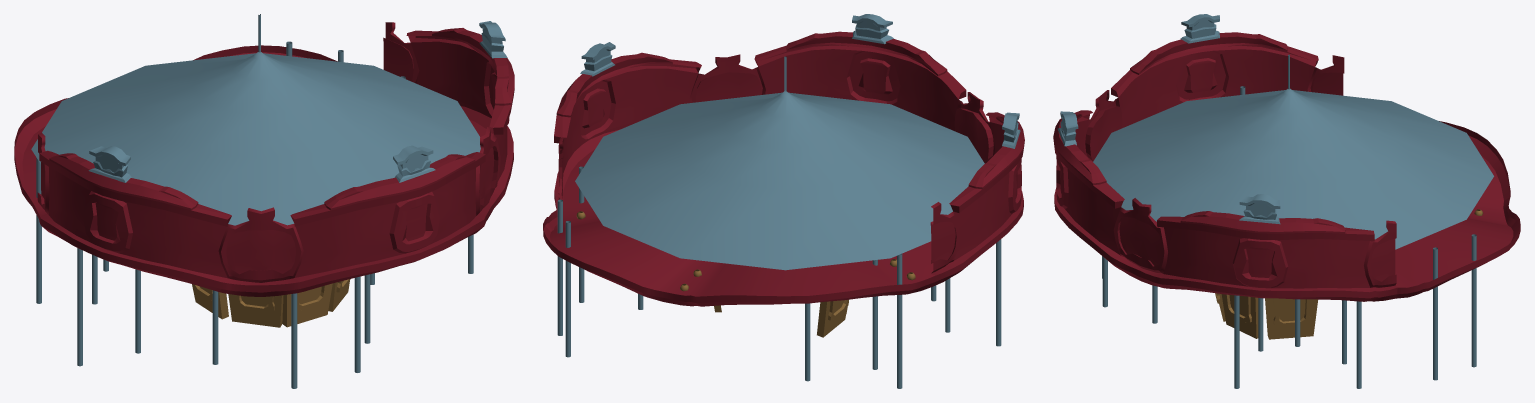
File: Carousel Export.fbx
The picture shows the model from 3 angles, left to right: view 1: azimuth 30°, elevation 25°; view 2: azimuth 150°, elevation 25°; view 3: azimuth 270°, elevation 25°; orthographic projection. The views are drawn at different scales.
Parts seen in each view (by area): view 1: Crown_Ring, Tent, Mirror_Cyl3, Mirror_Cyl, Crown_Topper_L, Crown_Topper_L1, Crown_Topper_L2, Horse_Pole1, Horse_Pole2, Horse_Pole18, Horse_Pole7, Mirror_Cyl4 (+3 smaller); view 2: Tent, Crown_Ring, Crown_Topper_L1, Mirror_Cyl4, Crown_Topper_L2, Horse_Pole2, Horse_Pole13, Horse_Pole15, Horse_Pole1, Crown_Topper_L, Horse_Pole4, Horse_Pole6; view 3: Crown_Ring, Tent, Mirror_Cyl2, Mirror_Cyl1, Crown_Topper_L2, Crown_Topper_L, Horse_Pole13, Horse_Pole15, Horse_Pole17, Crown_Topper_L1, Horse_Pole16.
Part boxes in pixels (x1,y1,x2,y2): Crown_Ring: (14, 22, 514, 296); Tent: (31, 52, 480, 225); Mirror_Cyl3: (228, 294, 283, 327); Mirror_Cyl: (282, 283, 332, 327); Crown_Topper_L: (88, 146, 131, 182); Crown_Topper_L1: (393, 145, 435, 182); Crown_Topper_L2: (479, 21, 507, 58); Horse_Pole1: (77, 248, 82, 366); Horse_Pole2: (36, 158, 41, 303); Horse_Pole18: (354, 276, 360, 372); Horse_Pole7: (291, 293, 297, 388); Mirror_Cyl4: (192, 284, 228, 319); Tent: (575, 90, 984, 270); Crown_Ring: (543, 31, 1024, 306); Crown_Topper_L1: (852, 14, 893, 44); Mirror_Cyl4: (817, 299, 848, 337); Crown_Topper_L2: (580, 42, 615, 76); Horse_Pole2: (897, 253, 902, 388); Horse_Pole13: (565, 221, 570, 357); Horse_Pole15: (557, 199, 562, 335); Horse_Pole1: (996, 239, 1001, 346); Crown_Topper_L: (1002, 112, 1020, 148); Horse_Pole4: (872, 260, 877, 369); Horse_Pole6: (805, 303, 810, 381); Crown_Ring: (1053, 32, 1520, 301); Tent: (1093, 88, 1493, 249); Mirror_Cyl2: (1265, 298, 1317, 339); Mirror_Cyl1: (1221, 294, 1258, 338); Crown_Topper_L2: (1239, 194, 1280, 224); Crown_Topper_L: (1180, 14, 1219, 43); Horse_Pole13: (1471, 234, 1476, 367); Horse_Pole15: (1433, 247, 1437, 380); Horse_Pole17: (1234, 295, 1239, 388); Crown_Topper_L1: (1057, 111, 1078, 146); Horse_Pole16: (1356, 301, 1361, 388).
Bounding box in the file's own units: 31.36 × 19.06 × 31.72.
